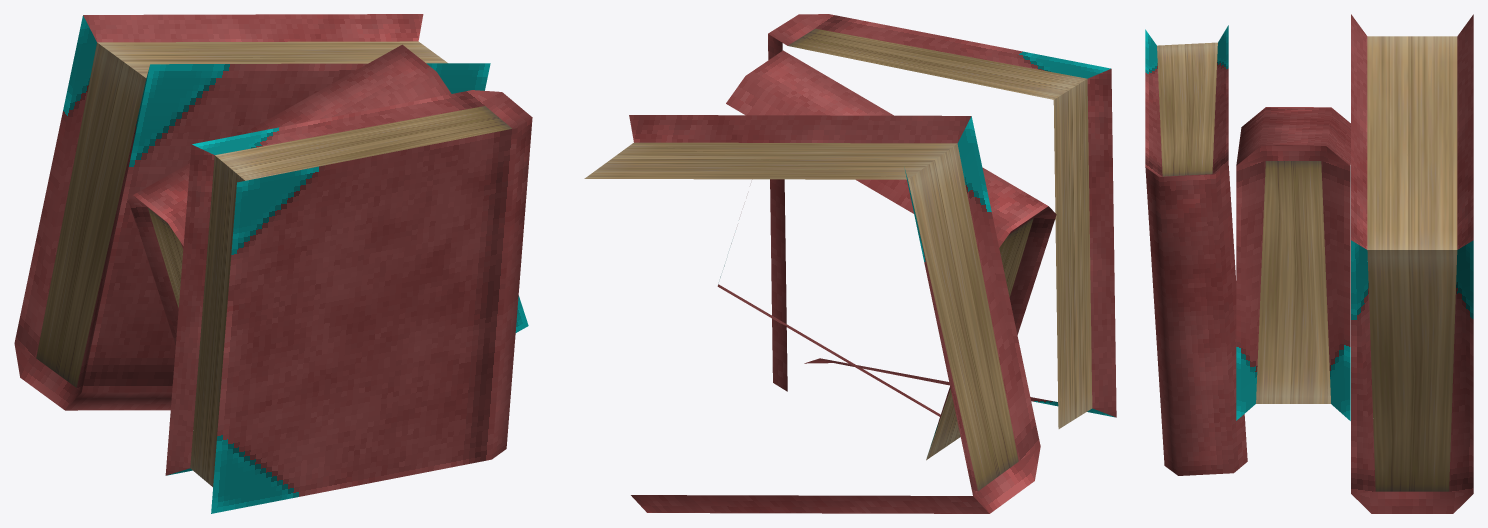
File: model_bookStack_01.glb
The picture shows the model from 3 angles, left to right: view 1: azimuth 30°, elevation 25°; view 2: azimuth 150°, elevation 25°; view 3: azimuth 270°, elevation 25°; orthographic projection. The views are drawn at different scales.
Visible parts, largest first — view 1: books_literature.model_bookStack_01-Mesh[1], books_literature.model_bookStack_01-Mesh[0], books_literature.model_bookStack_01-Mesh[3], books_literature.model_bookStack_01-Mesh[2]; view 2: books_literature.model_bookStack_01-Mesh[3], books_literature.model_bookStack_01-Mesh[0], books_literature.model_bookStack_01-Mesh[1], books_literature.model_bookStack_01-Mesh[2]; view 3: books_literature.model_bookStack_01-Mesh[3], books_literature.model_bookStack_01-Mesh[1], books_literature.model_bookStack_01-Mesh[0], books_literature.model_bookStack_01-Mesh[2].
Boxes of the visible parts, x1,y1,x2,y2 form: books_literature.model_bookStack_01-Mesh[1]: (165,90,532,513); books_literature.model_bookStack_01-Mesh[0]: (14,14,490,410); books_literature.model_bookStack_01-Mesh[3]: (36,41,511,486); books_literature.model_bookStack_01-Mesh[2]: (127,44,528,344); books_literature.model_bookStack_01-Mesh[3]: (584,28,1092,490); books_literature.model_bookStack_01-Mesh[0]: (629,115,1040,513); books_literature.model_bookStack_01-Mesh[1]: (768,14,1116,417); books_literature.model_bookStack_01-Mesh[2]: (717,50,1056,450); books_literature.model_bookStack_01-Mesh[3]: (1157,36,1457,491); books_literature.model_bookStack_01-Mesh[1]: (1145,25,1247,475); books_literature.model_bookStack_01-Mesh[0]: (1351,14,1473,513); books_literature.model_bookStack_01-Mesh[2]: (1236,107,1350,420).
Bounding box in the file's own units: 1.07 × 1.03 × 0.8037.
Materials: 2 (2 with a texture image).
